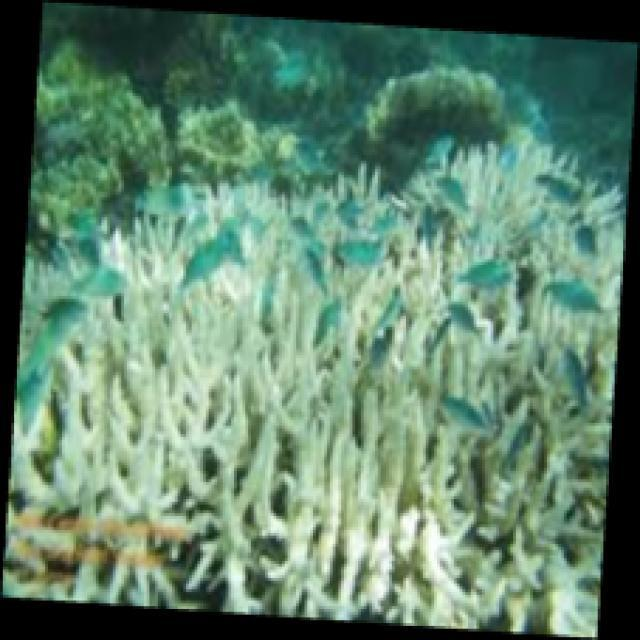Bleached: (1, 148, 629, 640)
